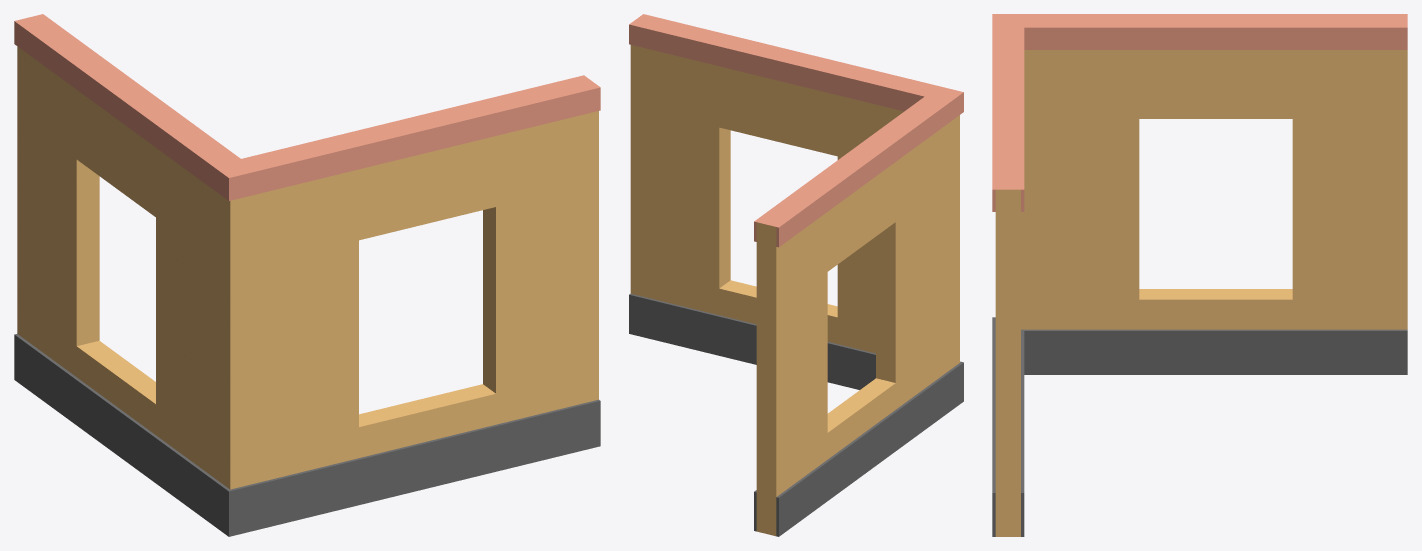
Rendered from Wall04-04.fbx.
The picture shows the model from 3 angles, left to right: view 1: azimuth 30°, elevation 25°; view 2: azimuth 150°, elevation 25°; view 3: azimuth 270°, elevation 25°; orthographic projection. The views are drawn at different scales.
Parts seen in each view (by area): view 1: Wall04-04; view 2: Wall04-04; view 3: Wall04-04.
Part boxes in pixels (box(x1,y1,x2,y2)): Wall04-04: box(14, 14, 600, 536); Wall04-04: box(629, 14, 963, 536); Wall04-04: box(992, 14, 1407, 536).
Bounding box in the file's own units: 3.25 × 3.25 × 3.
